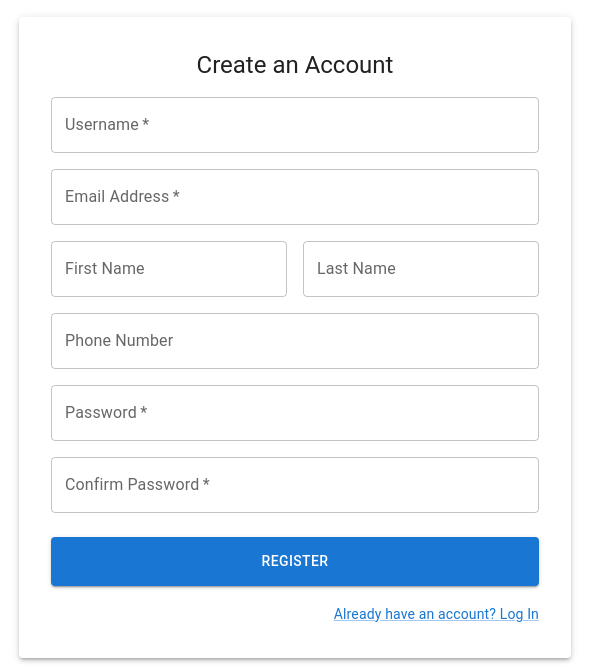
Scenario: RegisterPage Component › displays an error message on failed registration
Type "failuser" into the field labelled "Username *" at (295, 125), box [51, 97, 539, 153]
Type "fail@example.com" into the field labelled "Email Address *" at (295, 197), box [51, 169, 539, 225]
Type "Fail" into the field labelled "First Name" at (169, 269), box [51, 241, 287, 297]
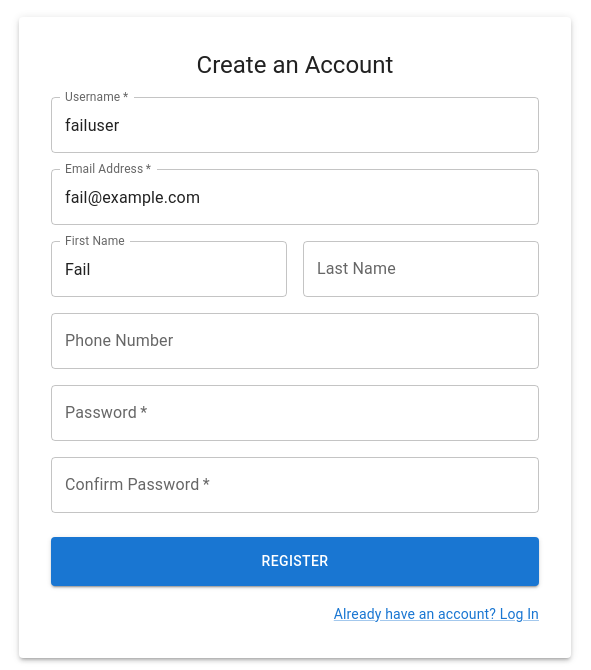
Type "User" into the field labelled "Last Name" at (421, 269), box [303, 241, 539, 297]
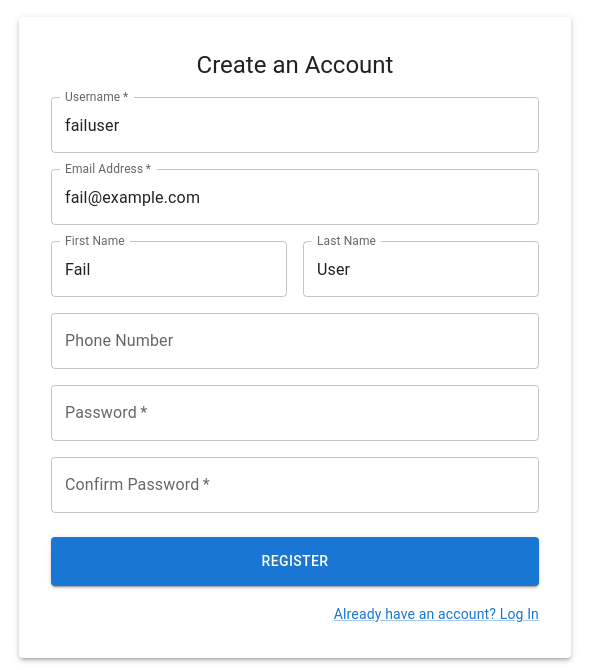
Type "000" into the field labelled "Phone Number" at (295, 341), box [51, 313, 539, 369]
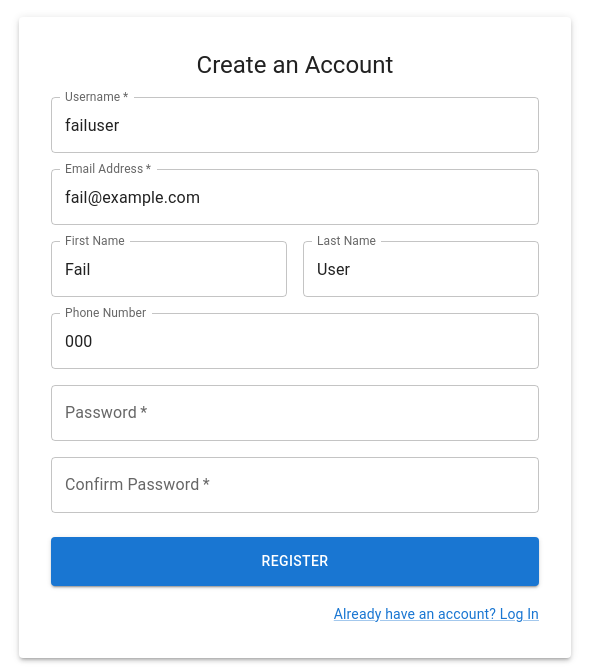
Type "password123" into the password field labelled "Password *" at (295, 413), box [51, 385, 539, 441]
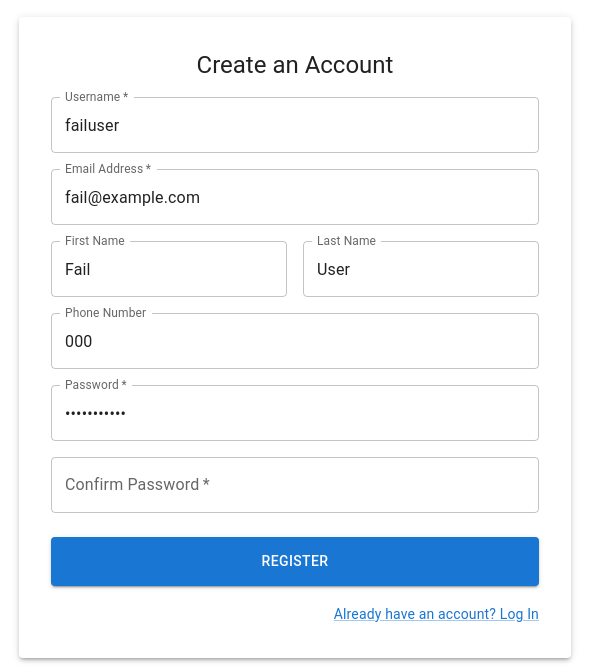
Type "password123" into the password field labelled "Confirm Password *" at (295, 485), box [51, 457, 539, 513]
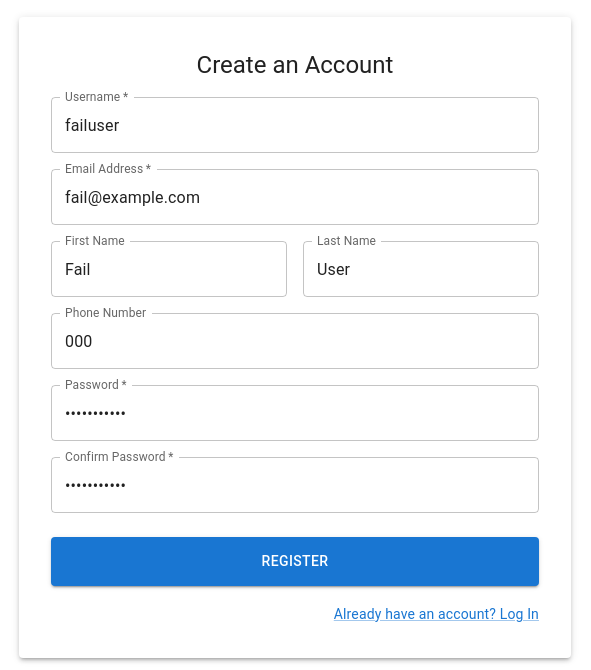
Click the button "Register" at (295, 562), box [51, 537, 539, 586]
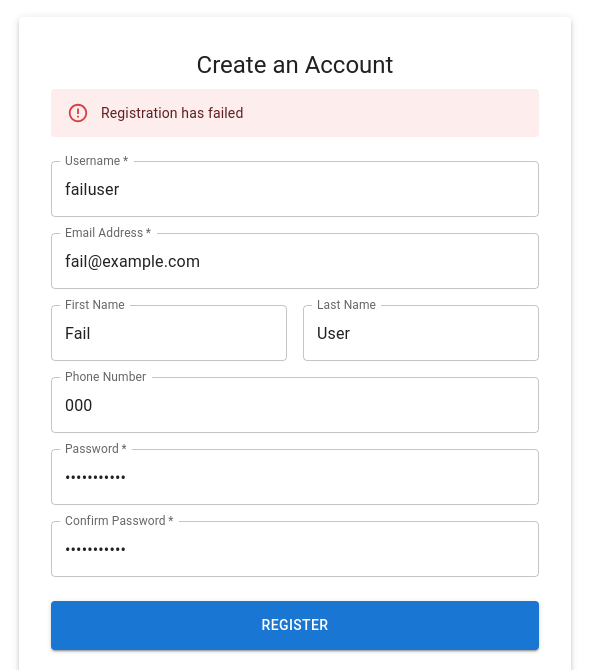
Now the message reads "Registration has failed", box [101, 105, 244, 121]
